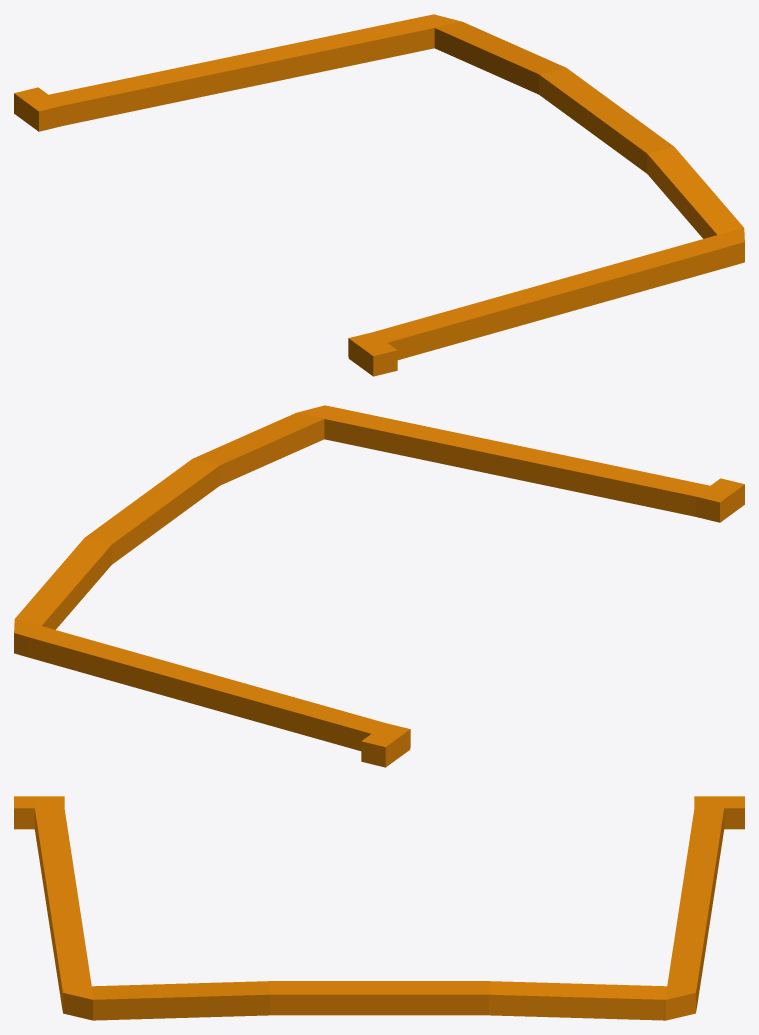
The model's file is Mand handle.fbx.
3 views of the same model, one above another, from view 1: azimuth 30°, elevation 25°; view 2: azimuth 150°, elevation 25°; view 3: azimuth 270°, elevation 25° (orthographic).
Visible parts, largest first — view 1: Mand Handle; view 2: Mand Handle; view 3: Mand Handle.
Boxes of the visible parts, x1,y1,x2,y2 form: Mand Handle: (14,14,744,376); Mand Handle: (14,405,744,767); Mand Handle: (14,796,744,1020).
Bounding box in the file's own units: 21.01 × 1.59 × 30.64.
